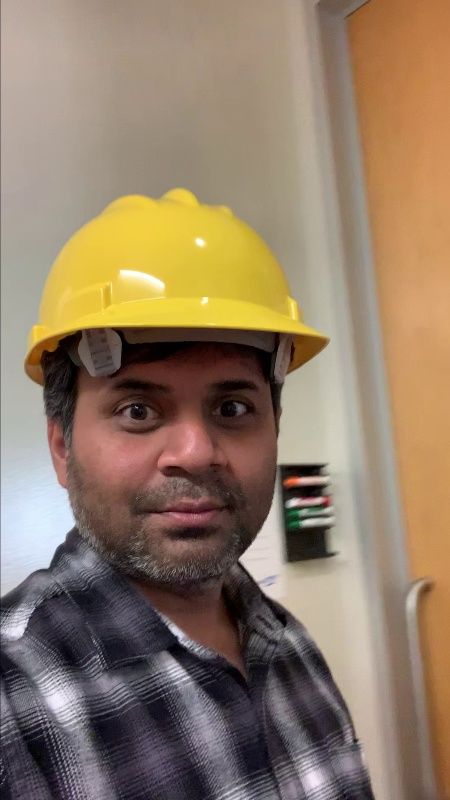helmet: (21, 188, 328, 340)
